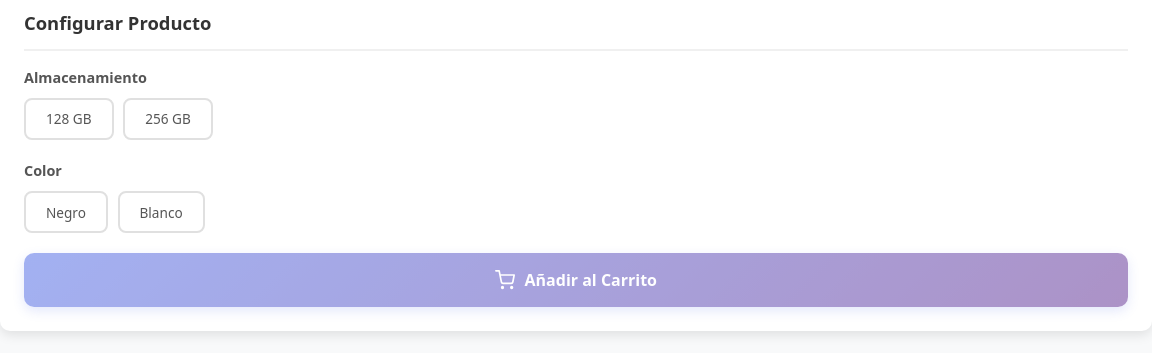
Scenario: Actions Component › should show success message after adding to cart
Click the button "128 GB" at [69, 119], box [24,98,114,140]
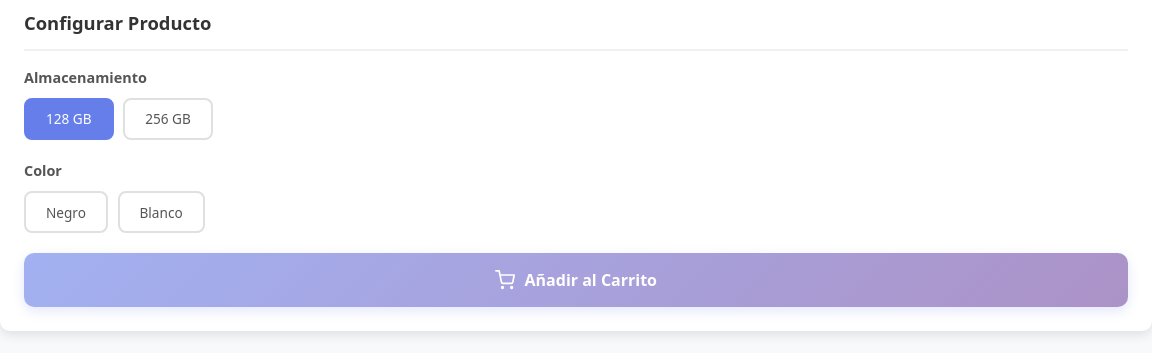
Click the button "Negro" at [66, 212], box [24,191,108,233]
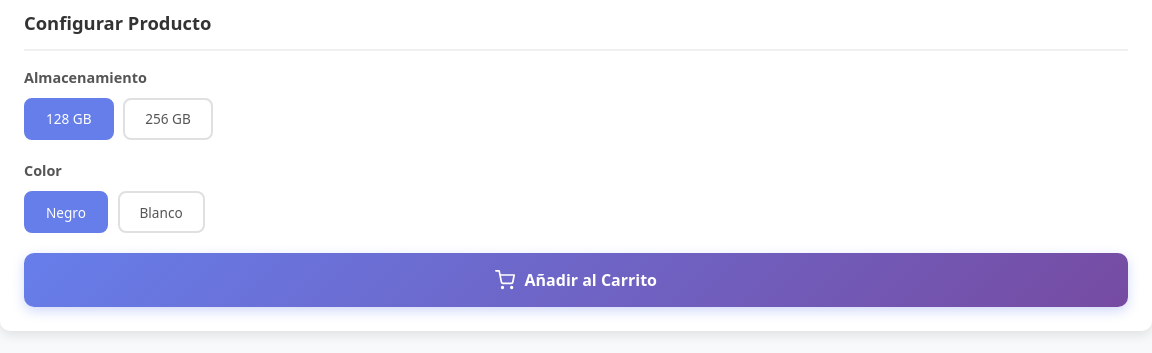
Click the button "Añadir al Carrito" at [576, 280], box [24,253,1128,307]
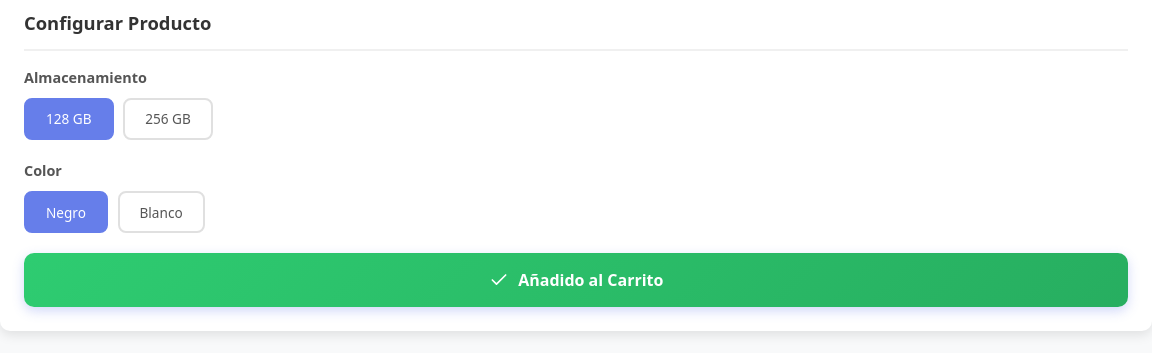
Now the button "Añadido al Carrito" is shown, box [24,253,1128,307]
